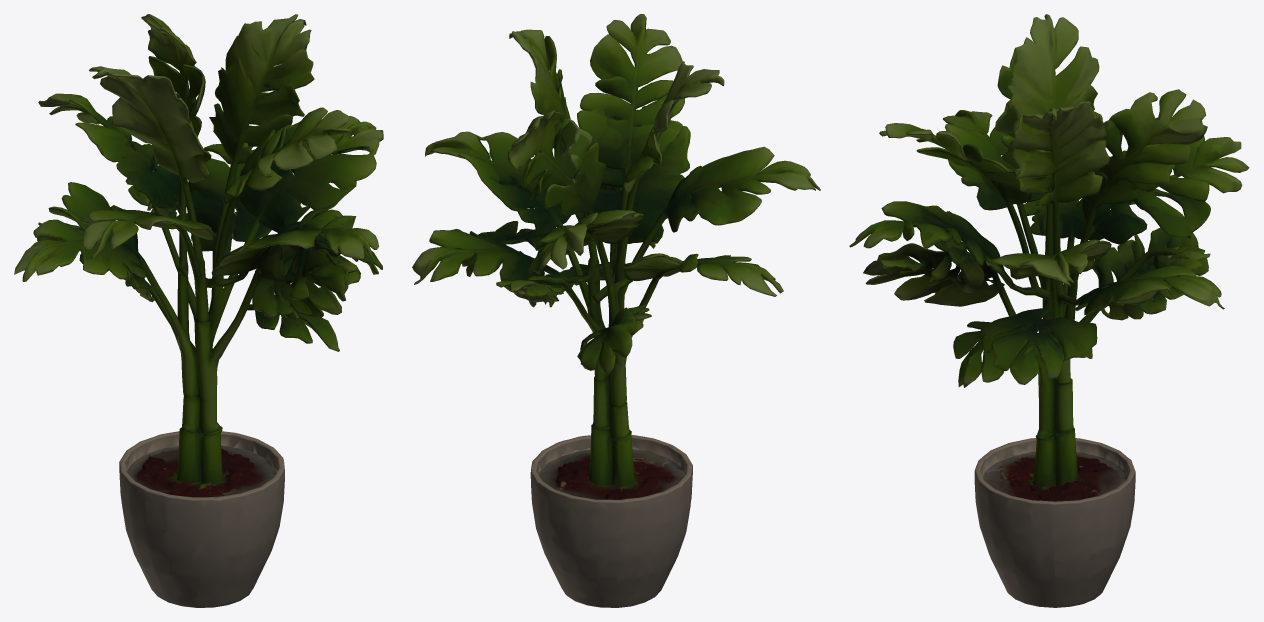
Rendered from plant-potted-broadleaf.glb.
3 renders of one model, left to right at view 1: azimuth 30°, elevation 25°; view 2: azimuth 150°, elevation 25°; view 3: azimuth 270°, elevation 25°, orthographic. The views are drawn at different scales.
Parts seen in each view (by area): view 1: tripo_node_a17d73a2-66e0-4d2e-9077-60b10607a852; view 2: tripo_node_a17d73a2-66e0-4d2e-9077-60b10607a852; view 3: tripo_node_a17d73a2-66e0-4d2e-9077-60b10607a852.
Part boxes in pixels (x1,y1,x2,y2): tripo_node_a17d73a2-66e0-4d2e-9077-60b10607a852: (14,14,383,607); tripo_node_a17d73a2-66e0-4d2e-9077-60b10607a852: (412,14,820,607); tripo_node_a17d73a2-66e0-4d2e-9077-60b10607a852: (849,14,1249,607).
Bounding box in the file's own units: 0.5563 × 0.8 × 0.5522.
1 material, 1 textured.
